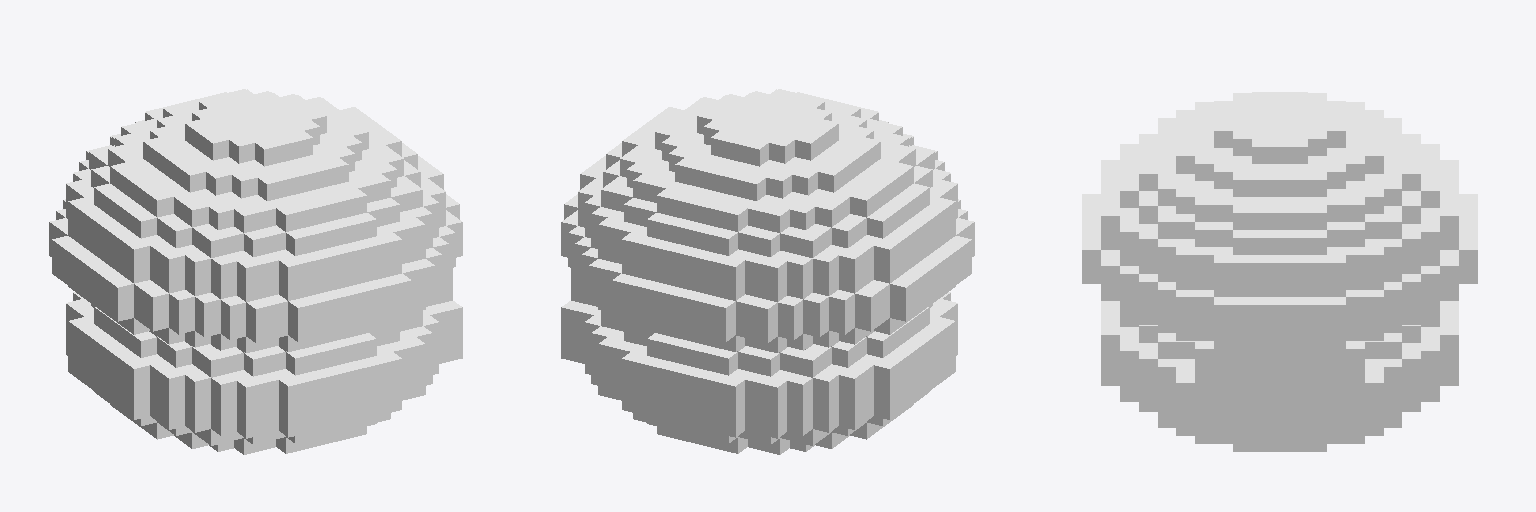
File: 몬스터1-1.obj
3 renders of one model, left to right at view 1: azimuth 30°, elevation 25°; view 2: azimuth 150°, elevation 25°; view 3: azimuth 270°, elevation 25°, orthographic.
Visible parts, largest first — view 1: object 1; view 2: object 1; view 3: object 1.
Boxes of the visible parts, x1,y1,x2,y2 form: object 1: [49, 89, 462, 454]; object 1: [561, 89, 974, 454]; object 1: [1082, 92, 1477, 451].
Bounding box in the file's own units: 2.1 × 1.6 × 2.1.